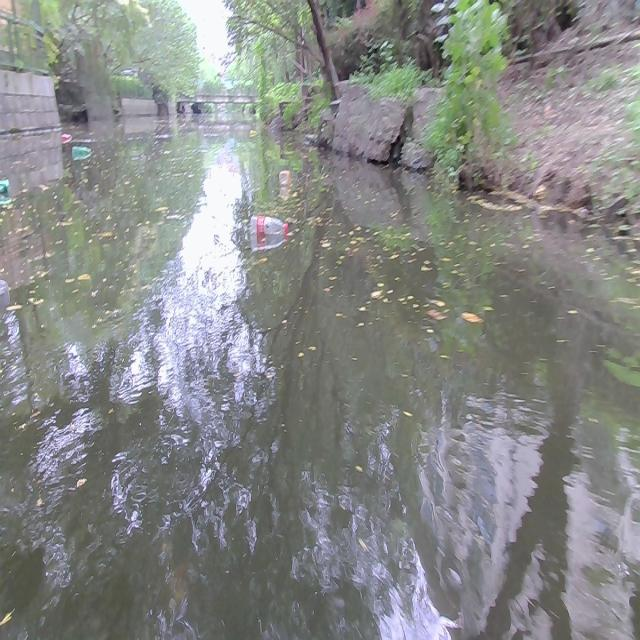bottle: (250, 215, 288, 236), (277, 169, 293, 186), (0, 175, 12, 197), (70, 144, 90, 157), (60, 132, 70, 142), (249, 127, 257, 136)
